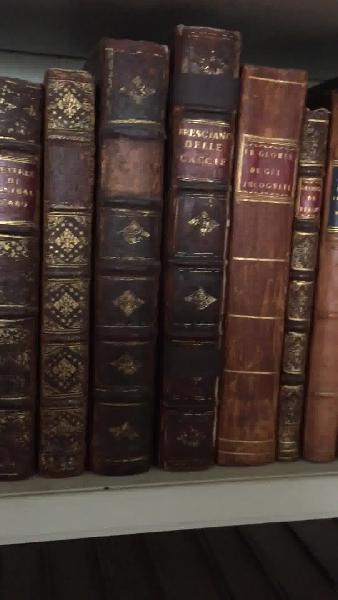Aa6-29: (2, 72, 39, 475)
Aa6-30: (42, 67, 94, 477)
Aa6-31: (84, 47, 163, 478)
Aa6-32: (160, 21, 231, 465)
Aa6-33: (229, 62, 307, 476)
Aa6-34: (272, 84, 338, 467)
